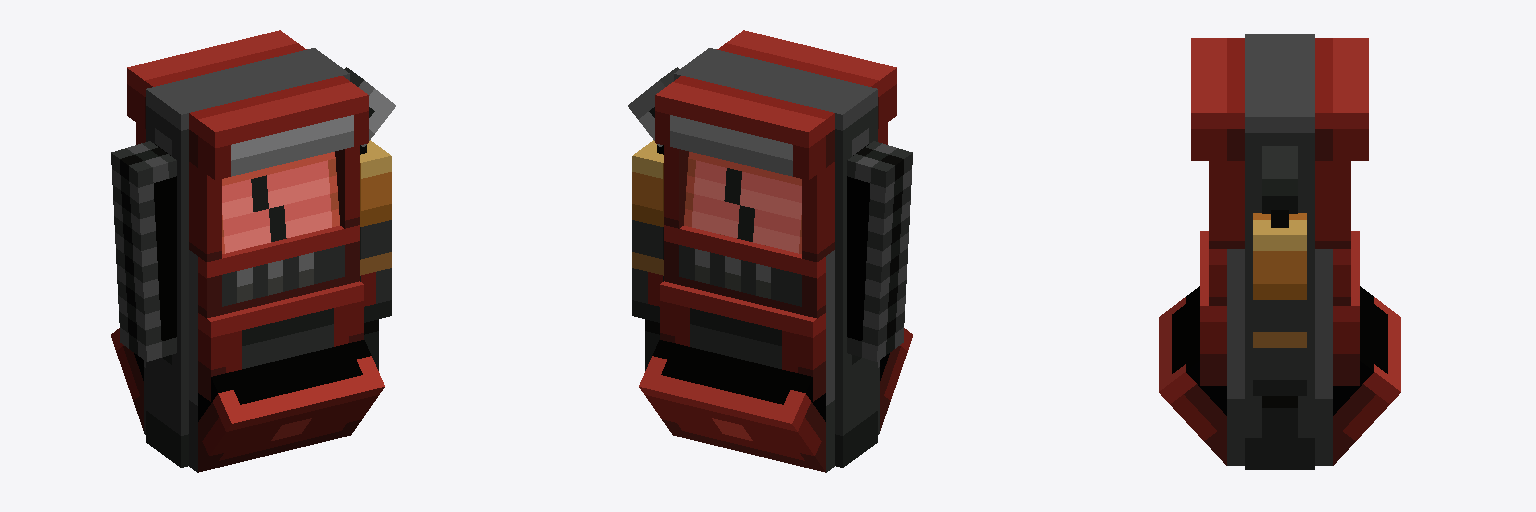
The picture shows the model from 3 angles: view 1: azimuth 30°, elevation 25°; view 2: azimuth 150°, elevation 25°; view 3: azimuth 270°, elevation 25°; orthographic projection.
Visible parts, largest first — view 1: screenbox, boxbottom, support, ammochain, boxmiddle, boxtop, screen, tube, glow_screen, glow_gauge; view 2: screenbox, boxbottom, support, ammochain, boxmiddle, boxtop, screen, tube, glow_screen, glow_gauge; view 3: support, screenbox, boxbottom, tube, boxmiddle, gauge, boxtop.
Boxes of the visible parts, box(x1,y1,x2,y2) form: screenbox: box(127, 30, 368, 261); boxbottom: box(111, 328, 384, 472); support: box(144, 48, 349, 472); ammochain: box(111, 141, 176, 361); boxmiddle: box(198, 281, 363, 401); boxtop: box(198, 225, 359, 318); screen: box(222, 152, 339, 253); tube: box(360, 140, 391, 370); glow_screen: box(251, 175, 286, 241); glow_gauge: box(359, 80, 395, 146); screenbox: box(655, 30, 896, 261); boxbottom: box(639, 328, 912, 472); support: box(674, 48, 879, 472); ammochain: box(847, 141, 912, 361); boxmiddle: box(660, 281, 825, 401); boxtop: box(664, 225, 825, 318); screen: box(684, 152, 801, 253); tube: box(632, 140, 663, 370); glow_screen: box(724, 168, 754, 241); glow_gauge: box(628, 80, 664, 146); support: box(1227, 34, 1332, 469); screenbox: box(1191, 38, 1368, 248); boxbottom: box(1159, 286, 1400, 465); tube: box(1253, 213, 1306, 455); boxmiddle: box(1200, 231, 1359, 385); gauge: box(1262, 146, 1297, 227); boxtop: box(1209, 249, 1350, 305).
Bounding box in the file's own units: 1.07 × 1.38 × 0.8569.
6 materials, 5 textured.